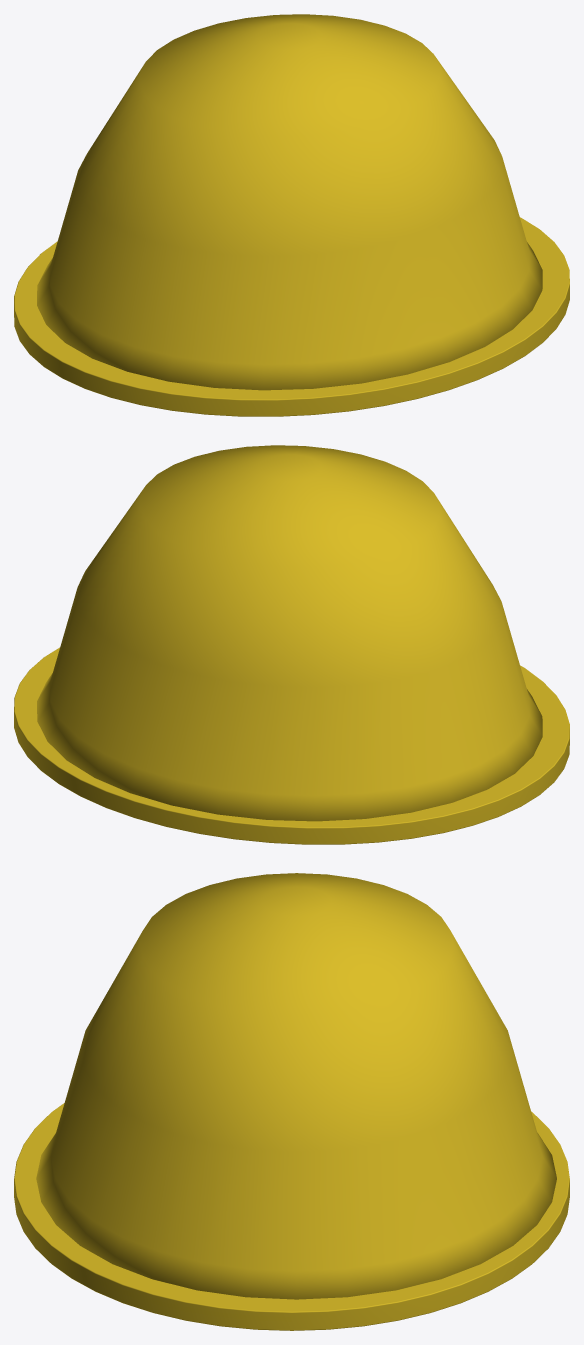
Rendered from worker_hat.b9db8c1d6b12.glb.
3 views of the same model, one above another, from view 1: azimuth 30°, elevation 25°; view 2: azimuth 150°, elevation 25°; view 3: azimuth 270°, elevation 25° (orthographic). The views are drawn at different scales.
Visible parts, largest first — view 1: Worker | original hardhat shell, Worker | integral hardhat brim; view 2: Worker | original hardhat shell, Worker | integral hardhat brim; view 3: Worker | original hardhat shell, Worker | integral hardhat brim.
Boxes of the visible parts, x1,y1,x2,y2 form: Worker | original hardhat shell: [37, 14, 542, 390]; Worker | integral hardhat brim: [14, 217, 569, 416]; Worker | original hardhat shell: [37, 445, 542, 821]; Worker | integral hardhat brim: [14, 647, 569, 844]; Worker | original hardhat shell: [36, 873, 556, 1299]; Worker | integral hardhat brim: [14, 1103, 569, 1330].
Size of the model in its own units: 0.2793 by 0.1443 by 0.2457.
1 material, 1 textured.
